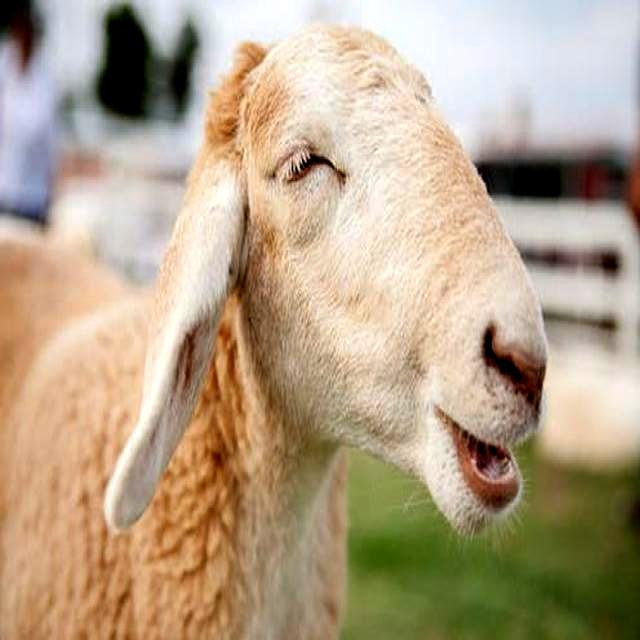sheep: (1, 23, 547, 637)
